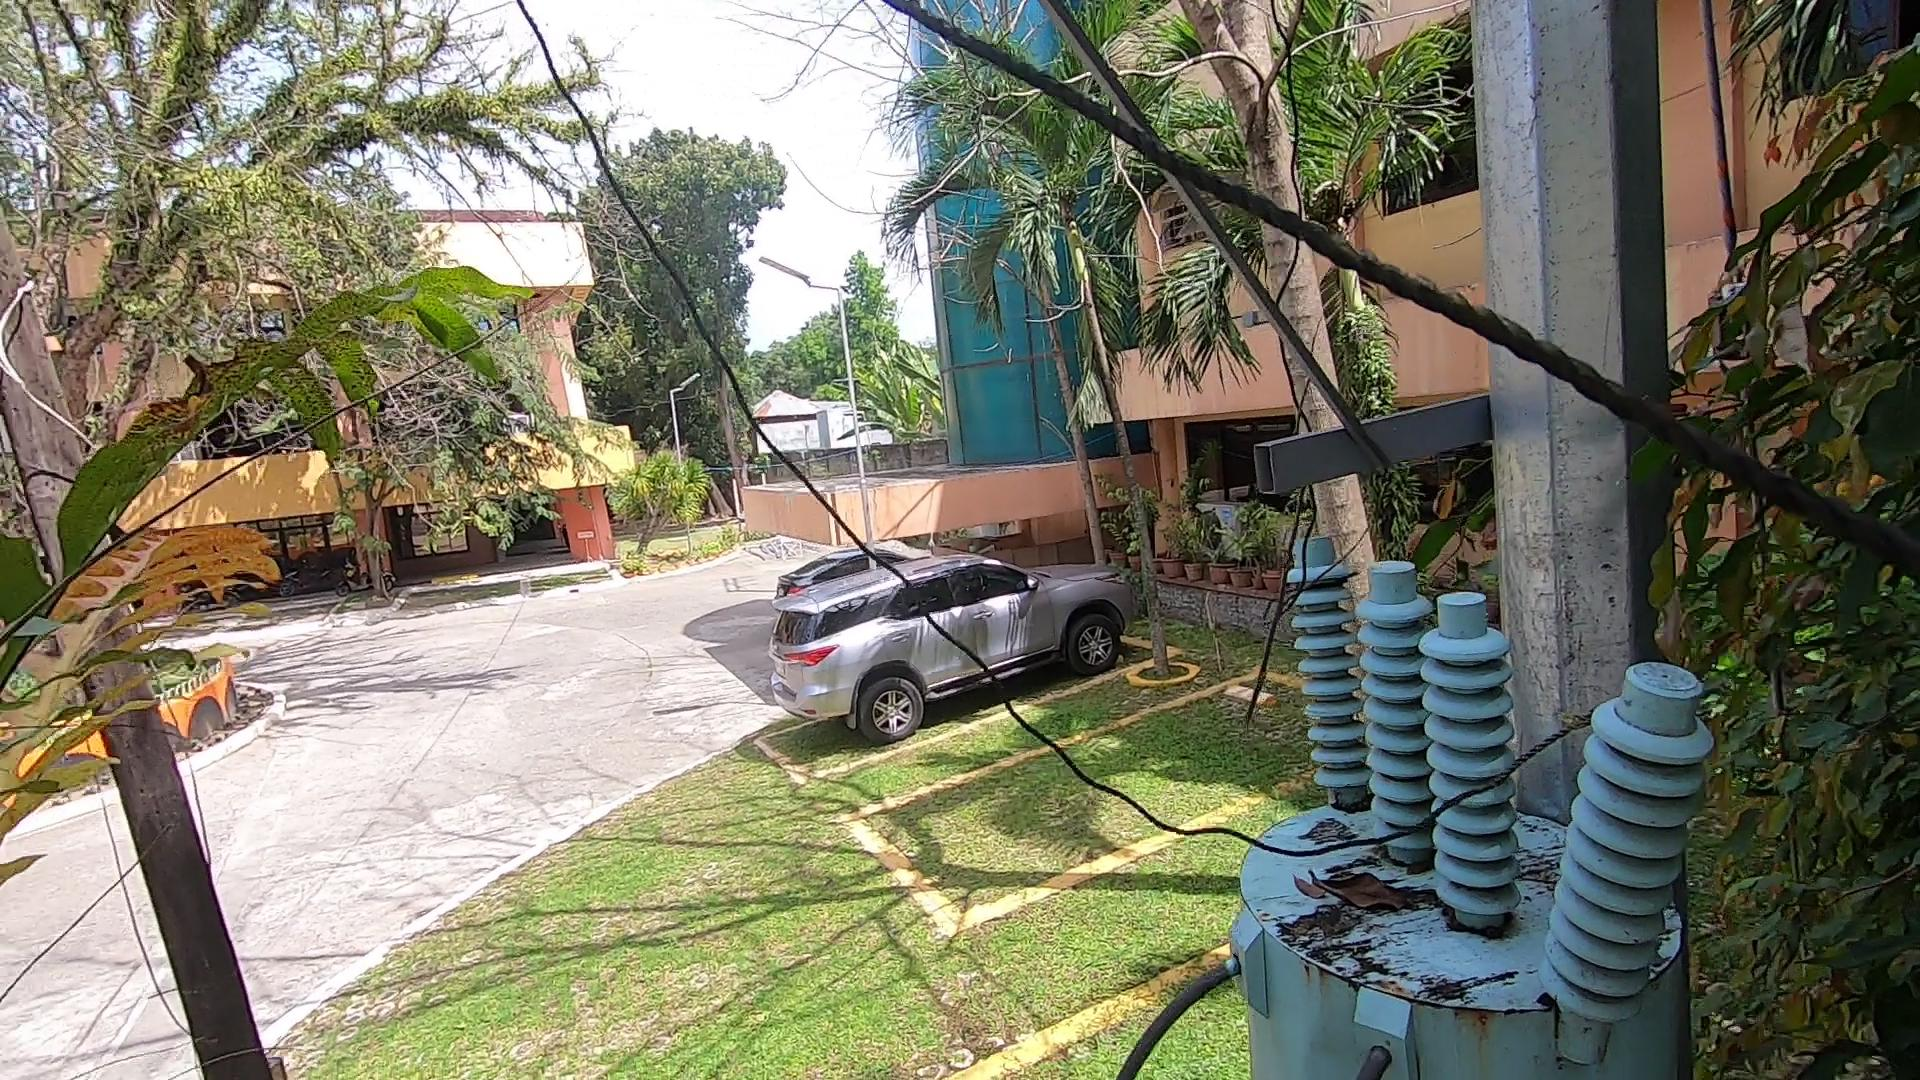leaf: (1284, 852, 1443, 932), (1333, 777, 1374, 819)
tree branch: (1213, 310, 1356, 731)
